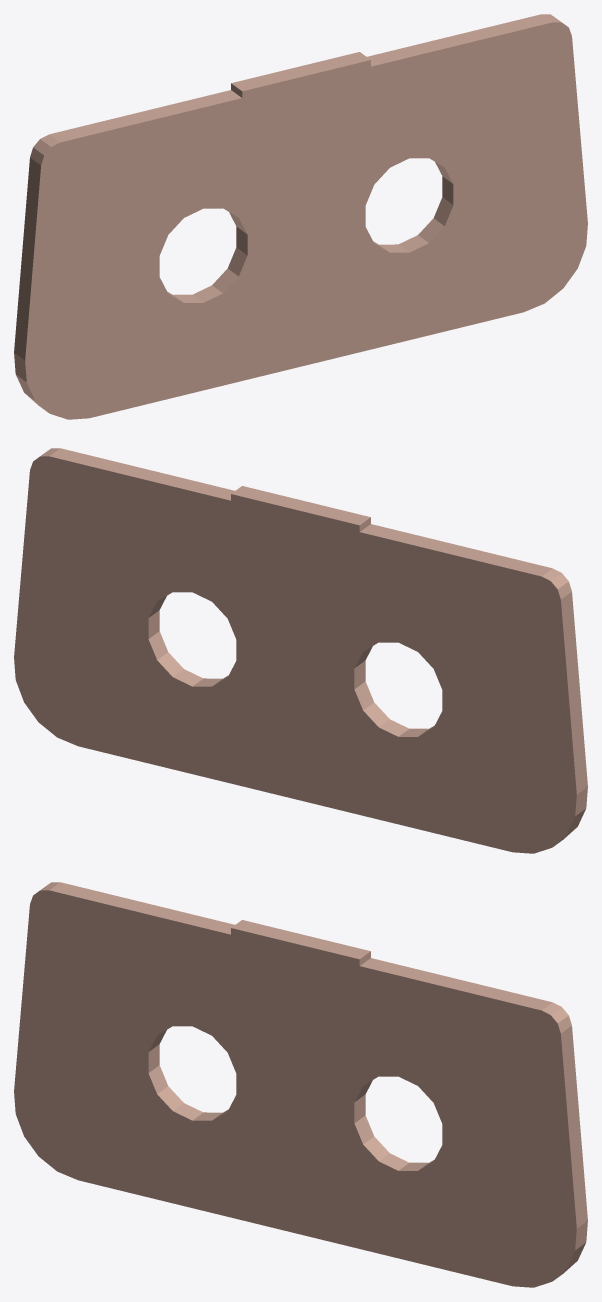
Rendered from sheet-md-17-04194-2-1-unfolded.glb.
The picture shows the model from 3 angles, top to bottom: view 1: azimuth 30°, elevation 25°; view 2: azimuth 150°, elevation 25°; view 3: azimuth 330°, elevation 25°; orthographic projection.
Visible parts, largest first — view 1: world; view 2: world; view 3: world.
Boxes of the visible parts, x1,y1,x2,y2 form: world: [14, 14, 587, 419]; world: [14, 448, 587, 853]; world: [14, 882, 587, 1287].
Bounding box in the file's own units: 43.72 × 21.5 × 1.5.
